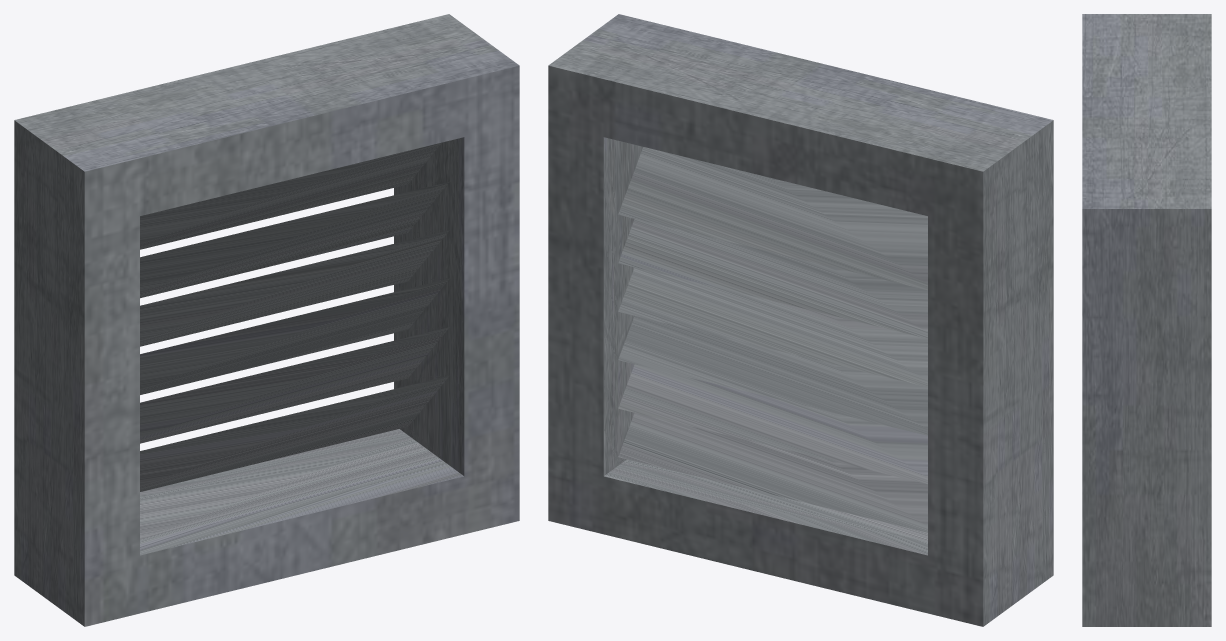
Rendered from Vent.glb.
The picture shows the model from 3 angles, left to right: view 1: azimuth 30°, elevation 25°; view 2: azimuth 150°, elevation 25°; view 3: azimuth 270°, elevation 25°; orthographic projection. The views are drawn at different scales.
Parts seen in each view (by area): view 1: Cube; view 2: Cube; view 3: Cube.
Part boxes in pixels (x1=…): Cube: x1=14, y1=14, x2=519, y2=626; Cube: x1=548, y1=14, x2=1053, y2=626; Cube: x1=1082, y1=14, x2=1211, y2=626.
Bounding box in the file's own units: 1.22 × 1.22 × 0.3415.
1 material, 1 textured.
